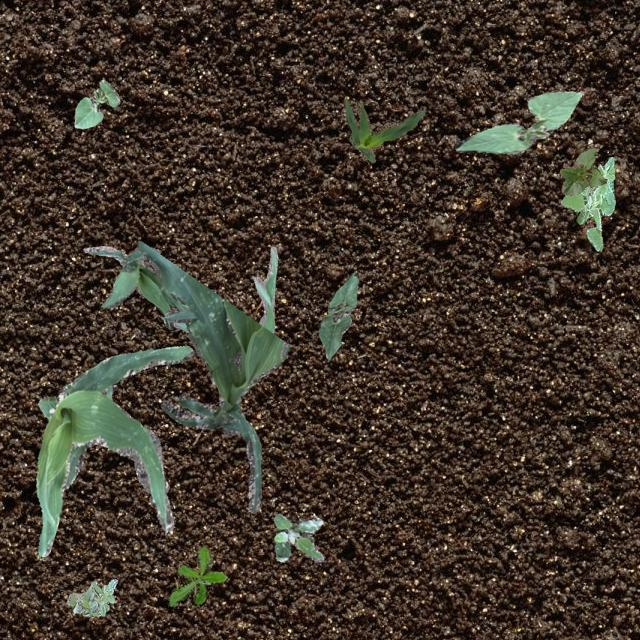crop: (136, 240, 288, 512), (36, 344, 192, 556), (82, 244, 190, 330), (172, 245, 276, 332), (454, 90, 580, 154), (38, 382, 112, 488), (342, 98, 424, 162), (318, 272, 358, 358), (558, 146, 606, 194), (73, 78, 119, 128)
weed: (560, 156, 614, 250), (166, 546, 226, 606), (272, 512, 322, 560), (66, 578, 116, 614)
